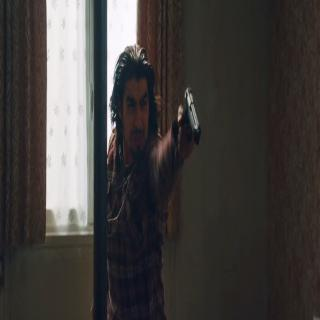gun: (176, 80, 198, 158)
